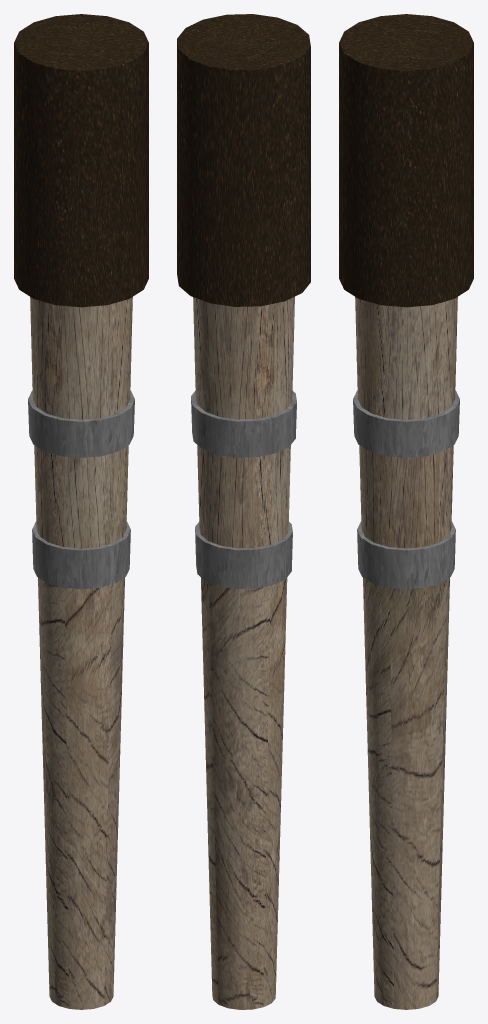
File: torch.fbx
3 renders of one model, left to right at view 1: azimuth 90°, elevation 25°; view 2: azimuth 150°, elevation 25°; view 3: azimuth 270°, elevation 25°, orthographic.
Parts seen in each view (by area): view 1: Cylinder; view 2: Cylinder; view 3: Cylinder.
Boxes of the visible parts, x1,y1,x2,y2 form: Cylinder: [14, 14, 148, 1009]; Cylinder: [177, 14, 310, 1009]; Cylinder: [339, 14, 473, 1009].
Size of the model in its own units: 13 by 102 by 13.
